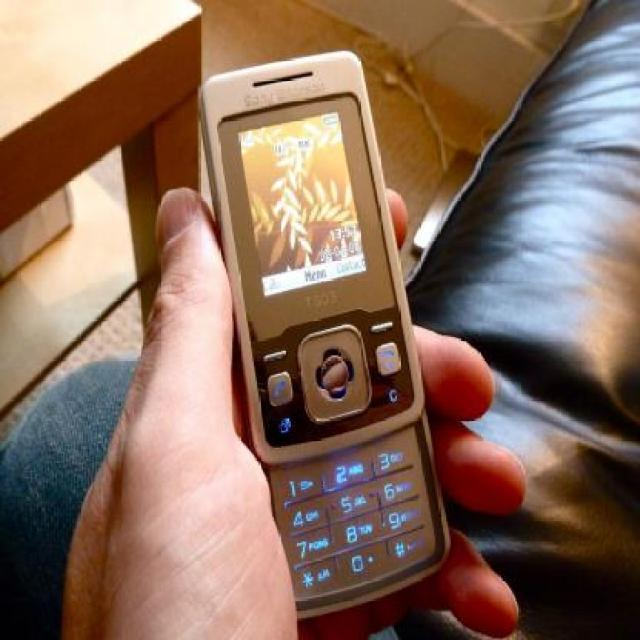phone: (203, 39, 446, 636)
